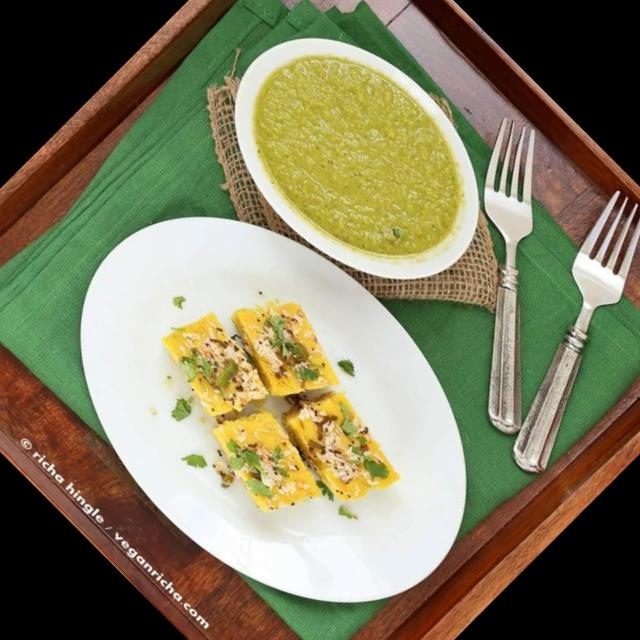dhokla: (129, 264, 424, 559)
